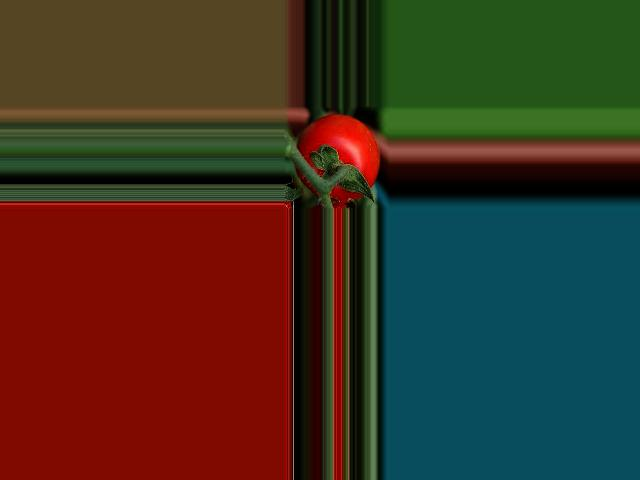tomato: (294, 114, 380, 206)
